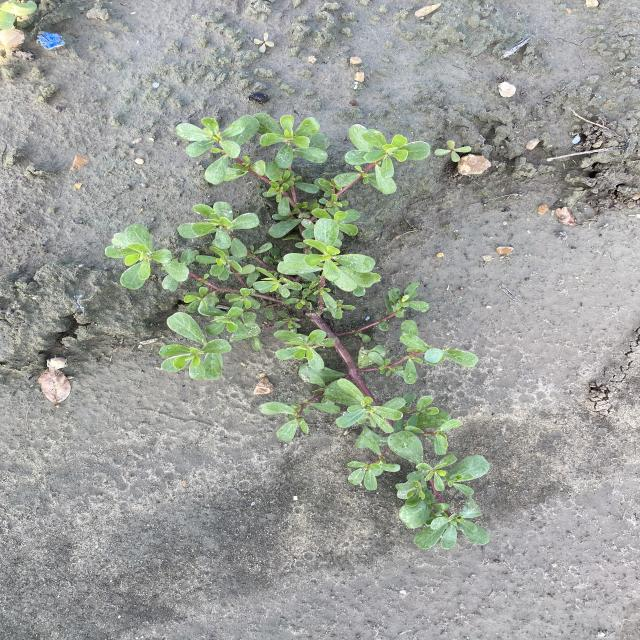Purslane: (103, 111, 493, 554)
